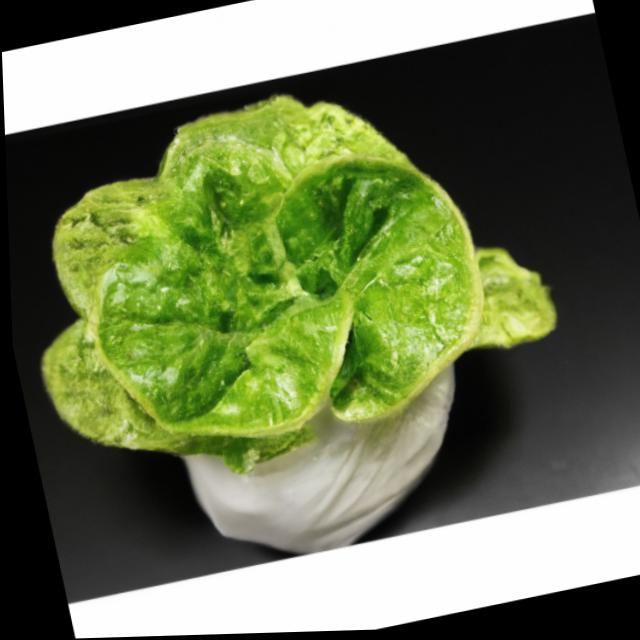-N: (2, 29, 581, 502)
